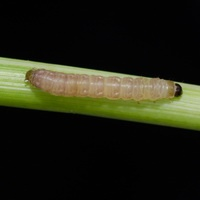insect: (25, 69, 181, 99)
